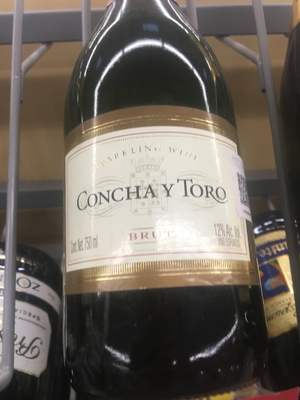brut: (66, 17, 271, 400)
